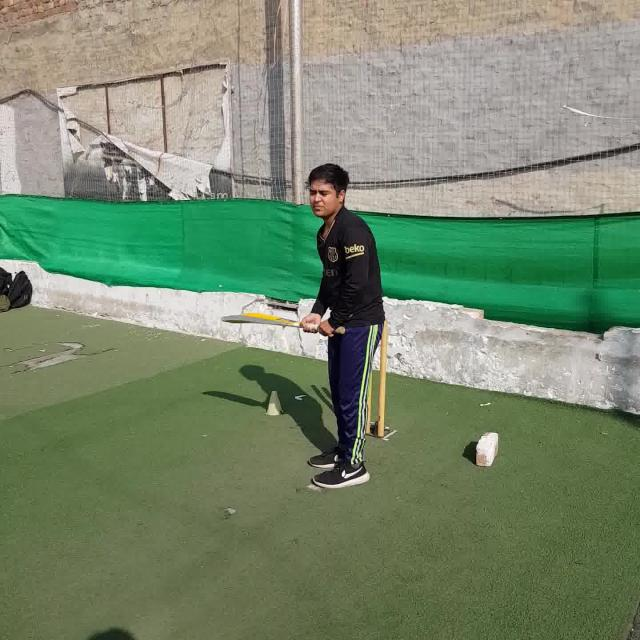bat: (223, 311, 345, 334)
